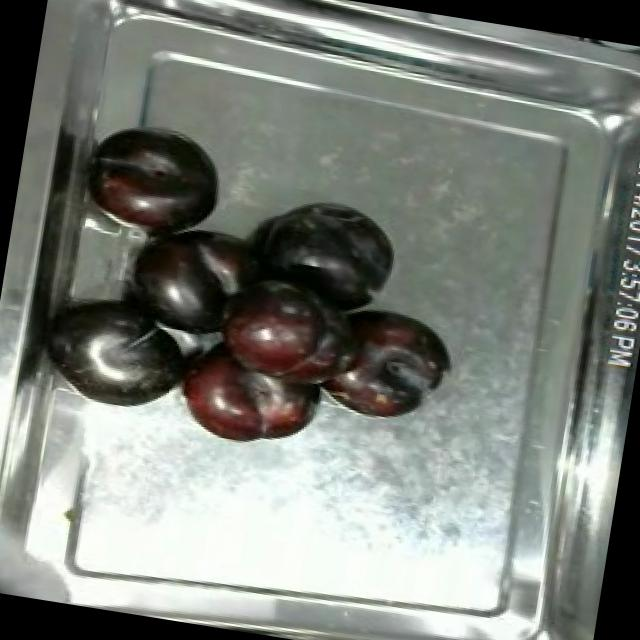Fruit: (76, 118, 236, 253), (245, 192, 407, 324), (163, 342, 332, 463), (310, 295, 456, 432), (201, 266, 343, 394), (115, 220, 253, 348)
